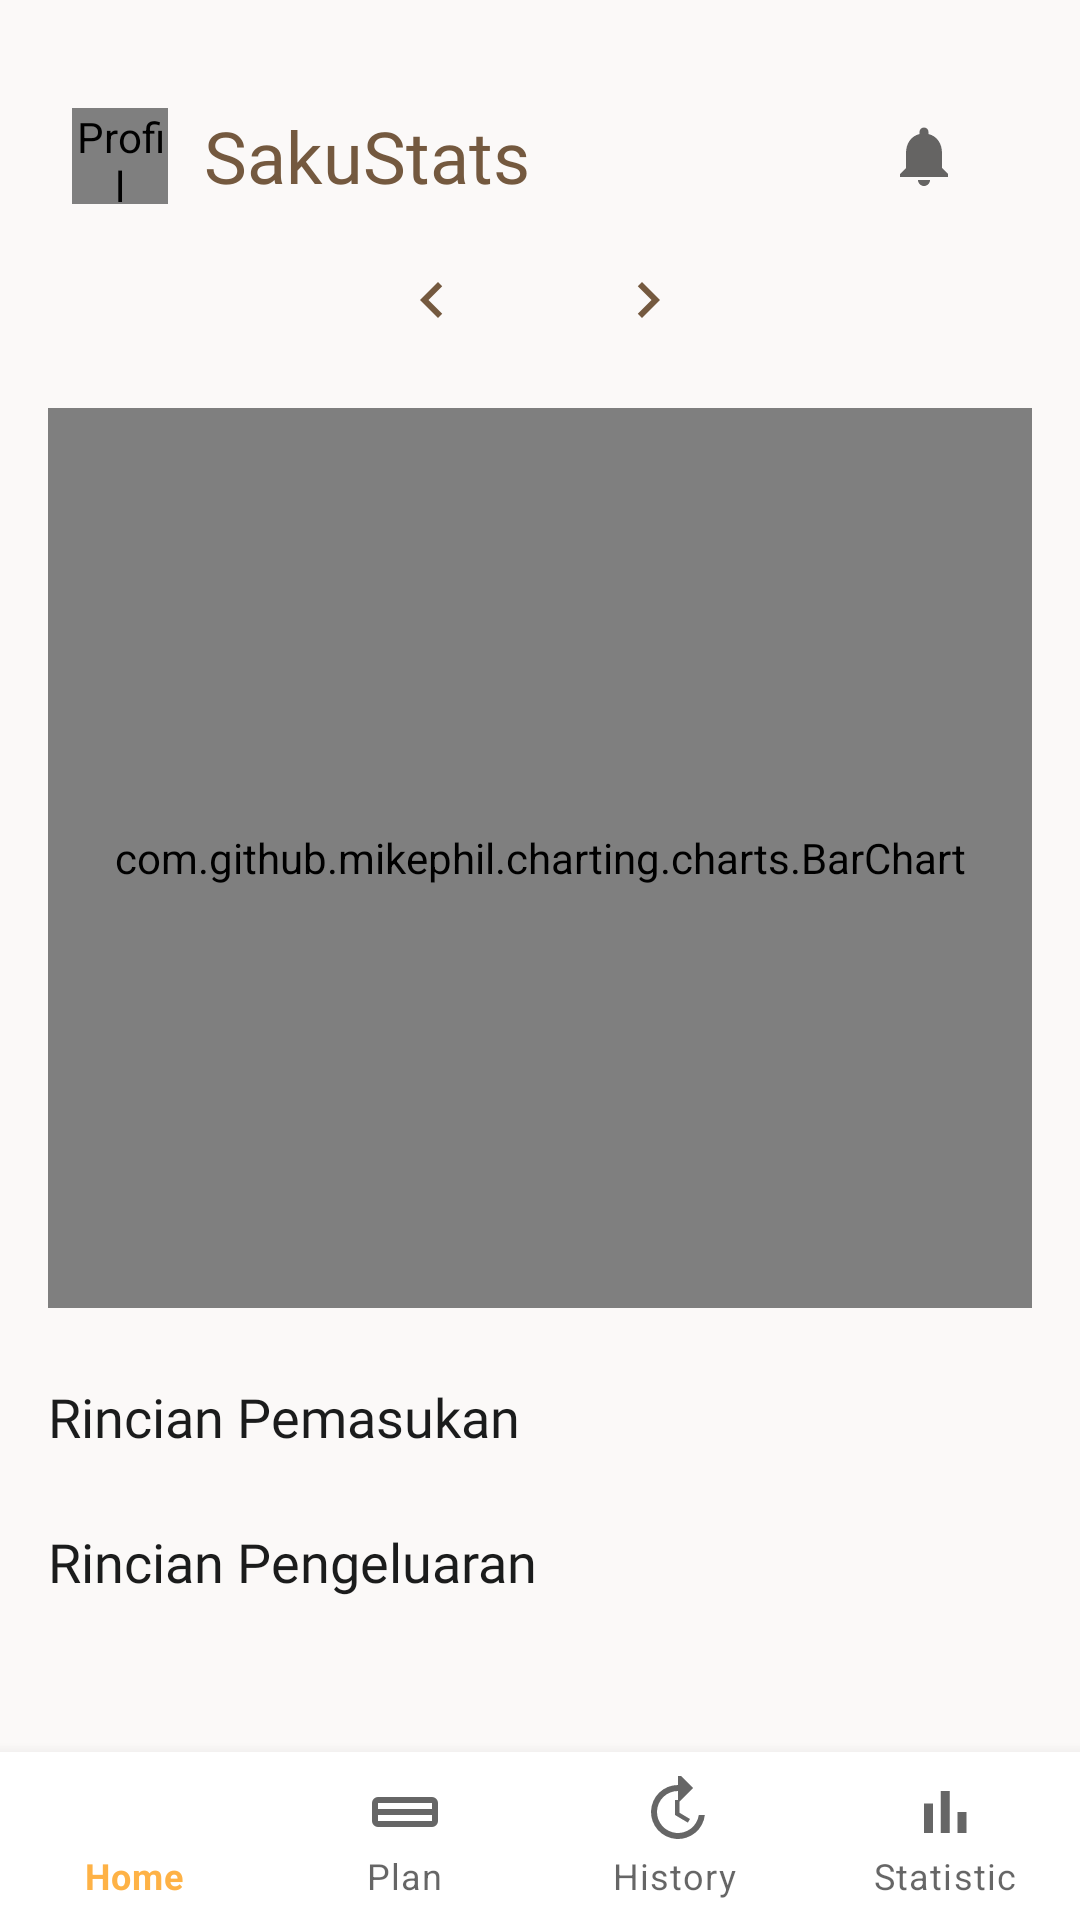

Icon bounding boxes for this 1080x1920 phone screenshot, format Rect(x1, y1, x2, y2):
arrow left: Rect(420, 282, 442, 318)
arrow right: Rect(638, 282, 660, 318)
Notifikasi: Rect(900, 127, 948, 186)
